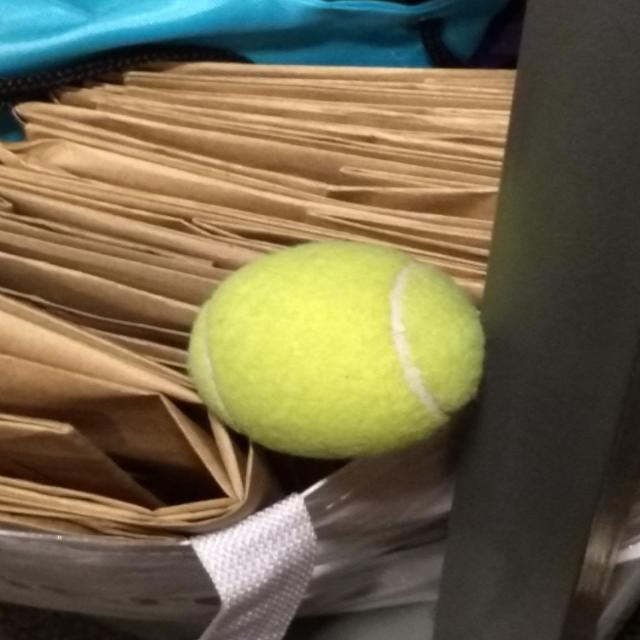Tennis-Ball: (187, 241, 488, 463)
